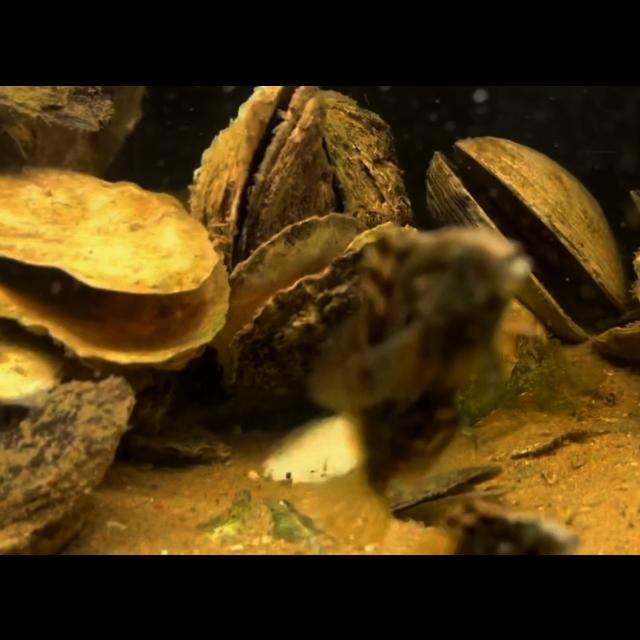Oyster-Closed: (0, 372, 136, 554), (425, 300, 557, 436), (319, 86, 413, 226)
Oyster-Open: (0, 164, 228, 366), (422, 132, 626, 340), (212, 210, 424, 390), (187, 86, 325, 272), (386, 456, 518, 524), (122, 412, 236, 472)
